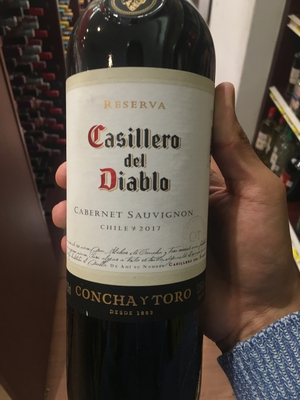casillero del diablo cabernet sauvignon: (59, 15, 218, 398)
